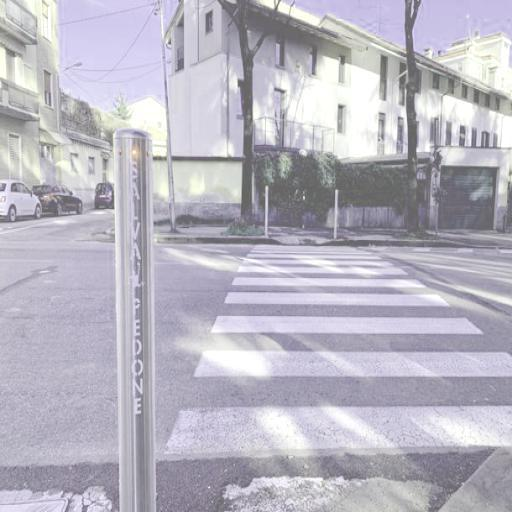crosswalk: (160, 346, 512, 464), (204, 290, 490, 338), (235, 255, 410, 278)
